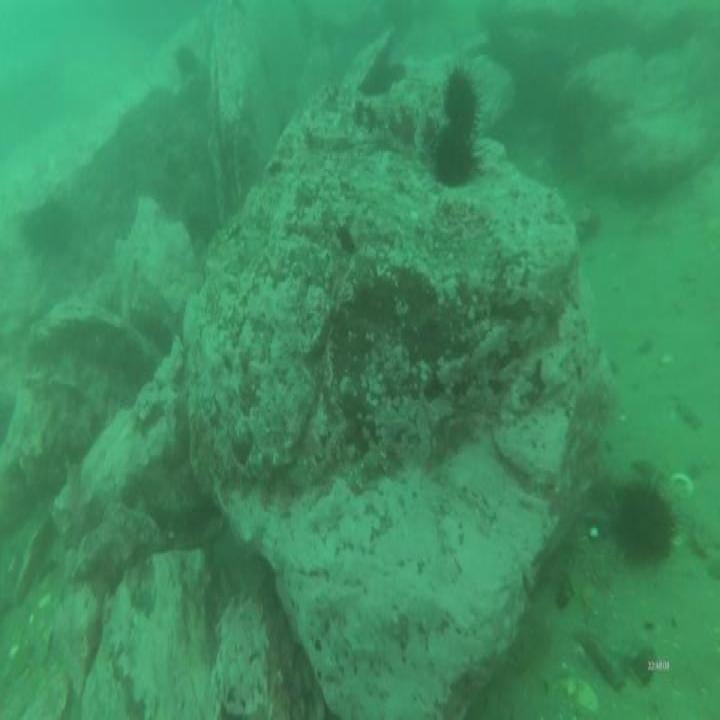echinus: (613, 471, 679, 571), (20, 199, 81, 263), (429, 121, 479, 190), (438, 61, 480, 135), (170, 39, 203, 84)
holothurian: (570, 524, 621, 592)
